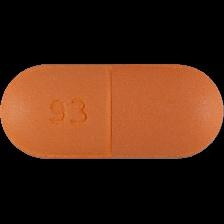0179-0110: (0, 0, 224, 224)
